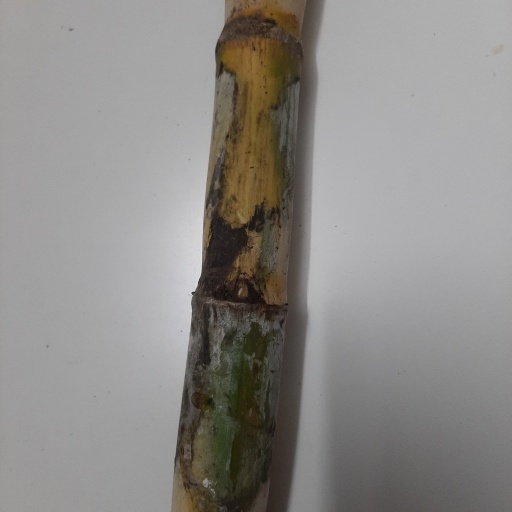Bud: (235, 280, 250, 301)
